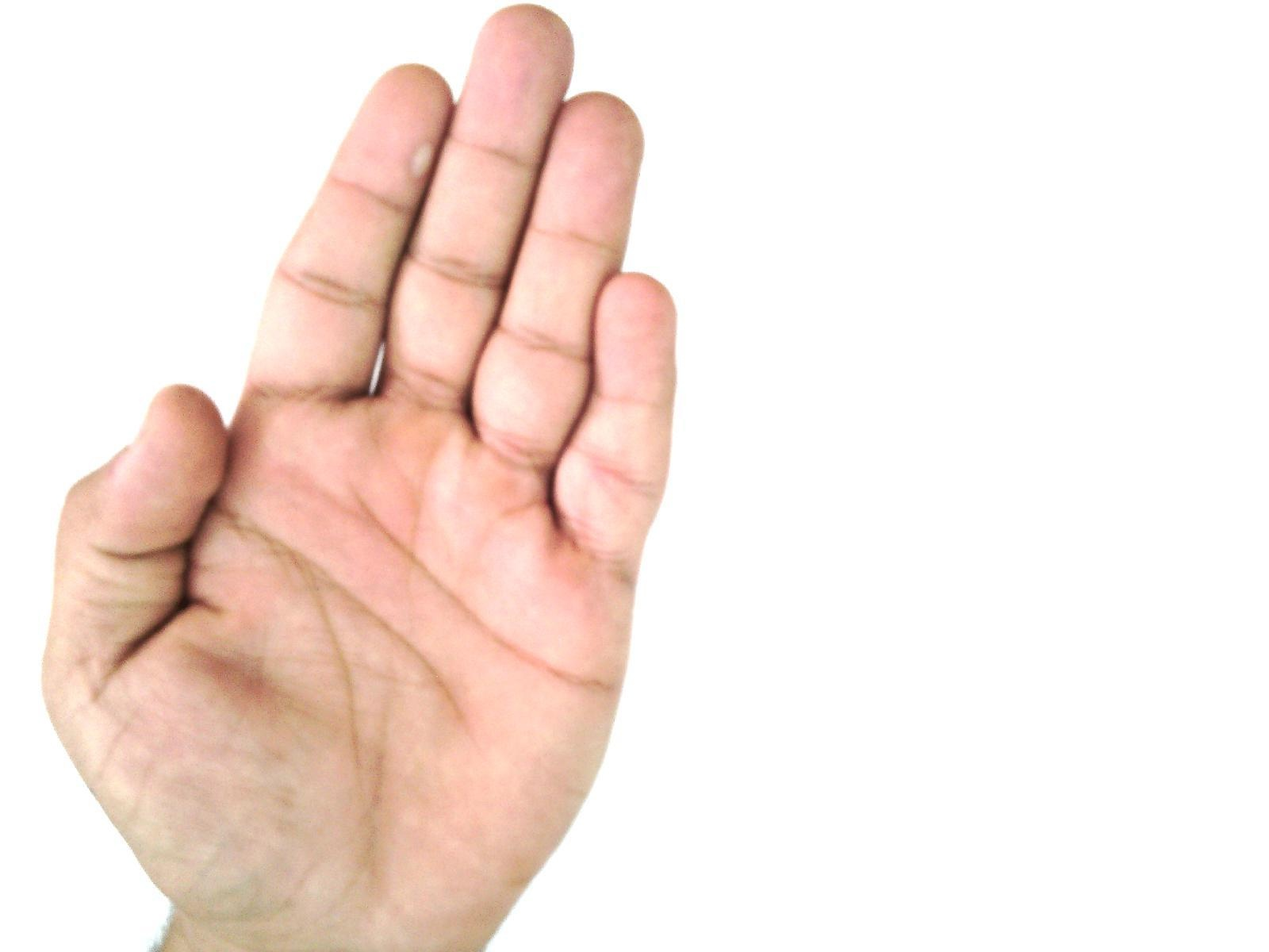open_palm: (40, 6, 682, 950)
